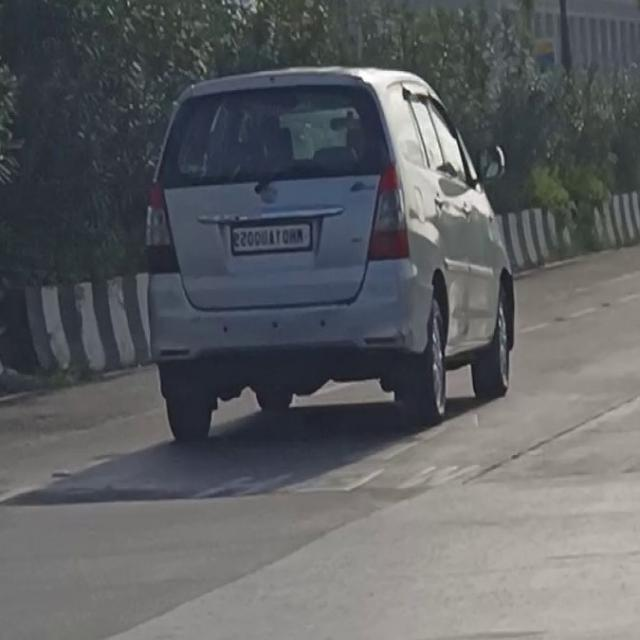license_plate: (229, 218, 315, 258)
